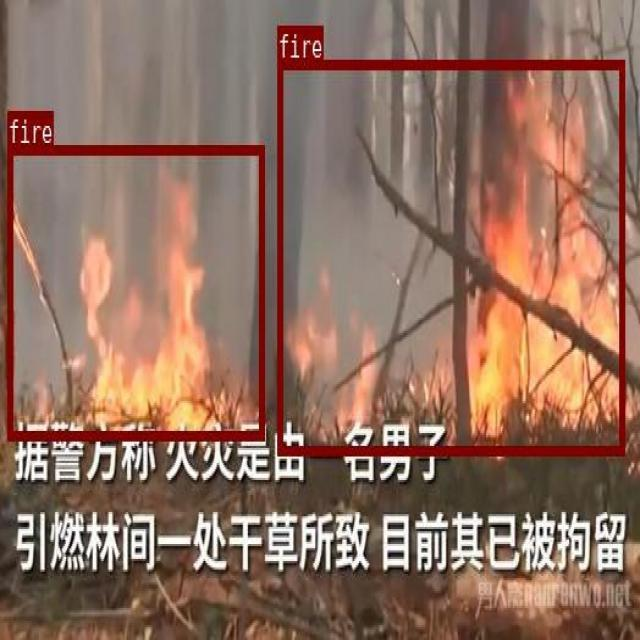fire: (276, 59, 624, 453), (7, 145, 264, 439)
